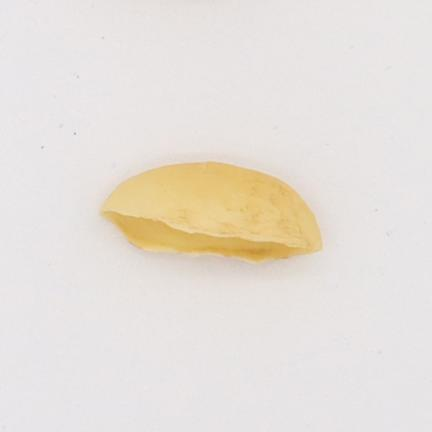parchment: (101, 162, 321, 262)
